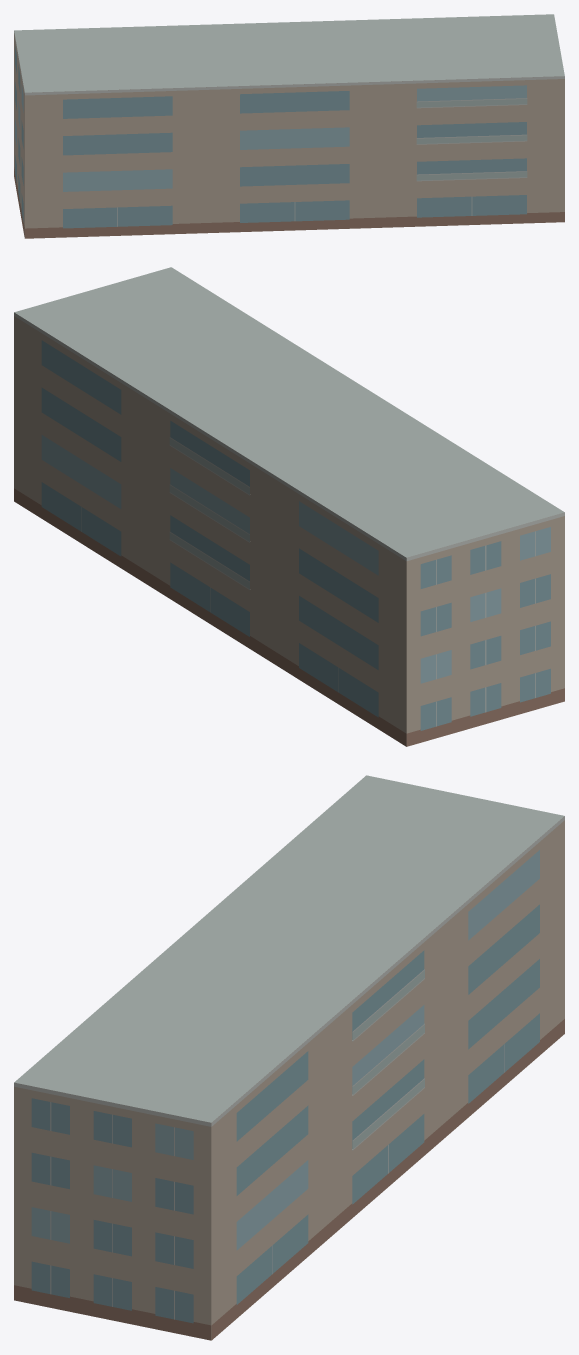
Rendered from survey-upis-32839046.glb.
The picture shows the model from 3 angles, top to bottom: view 1: azimuth 30°, elevation 25°; view 2: azimuth 150°, elevation 25°; view 3: azimuth 270°, elevation 25°; orthographic projection. The views are drawn at different scales.
Parts seen in each view (by area): view 1: survey-upis-32839046.tmp; view 2: survey-upis-32839046.tmp; view 3: survey-upis-32839046.tmp.
Part boxes in pixels (box(x1,y1,x2,y2)): survey-upis-32839046.tmp: box(14, 14, 564, 238); survey-upis-32839046.tmp: box(14, 267, 564, 746); survey-upis-32839046.tmp: box(14, 775, 564, 1340).
Size of the model in its own units: 43.8 by 12.8 by 29.34.
